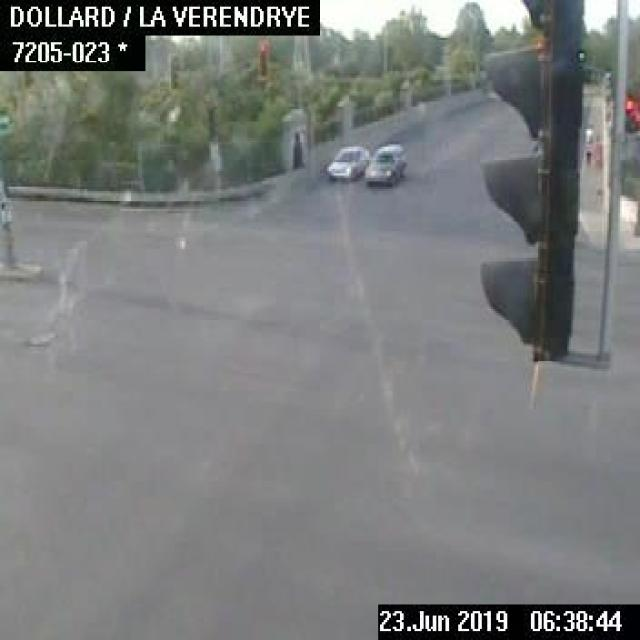vehicle: (364, 140, 408, 187), (324, 140, 366, 180)
